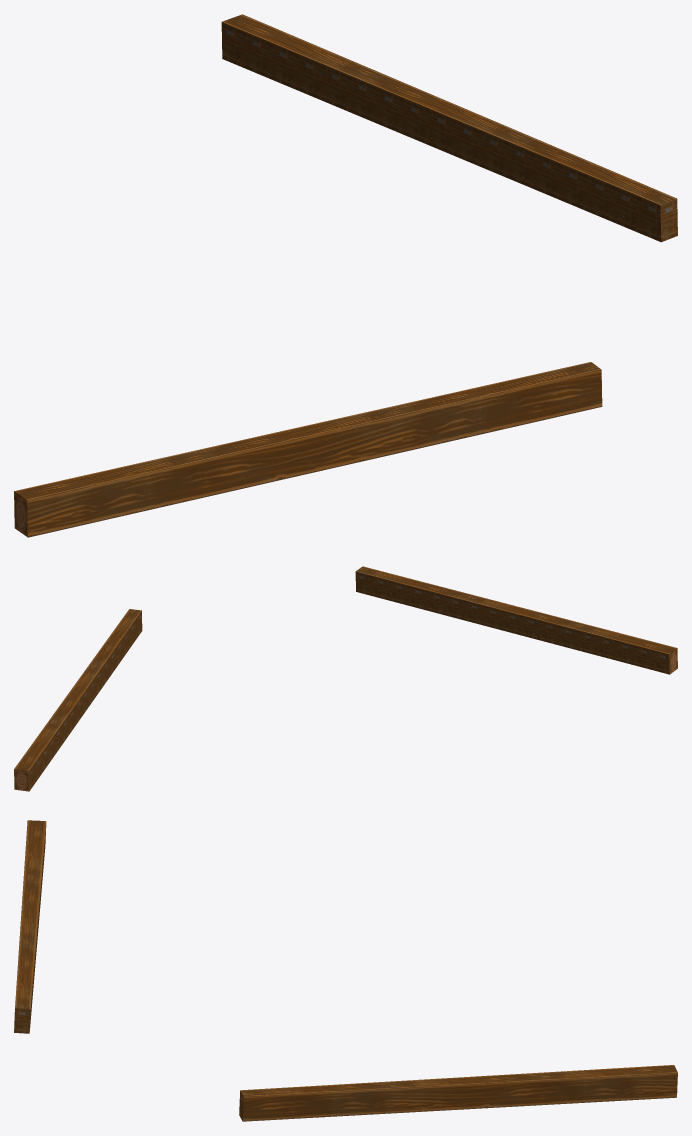
3 views of the same model, one above another, from view 1: azimuth 30°, elevation 25°; view 2: azimuth 150°, elevation 25°; view 3: azimuth 270°, elevation 25° (orthographic). The views are drawn at different scales.
Parts seen in each view (by area): view 1: Cube.2070; view 2: Cube.2070; view 3: Cube.2070.
Boxes of the visible parts, x1,y1,x2,y2 form: Cube.2070: (14,14,677,537); Cube.2070: (14,566,677,791); Cube.2070: (14,820,677,1121).
Bounding box in the file's own units: 1338 × 110 × 1399.
Materials: 1 (1 with a texture image).
